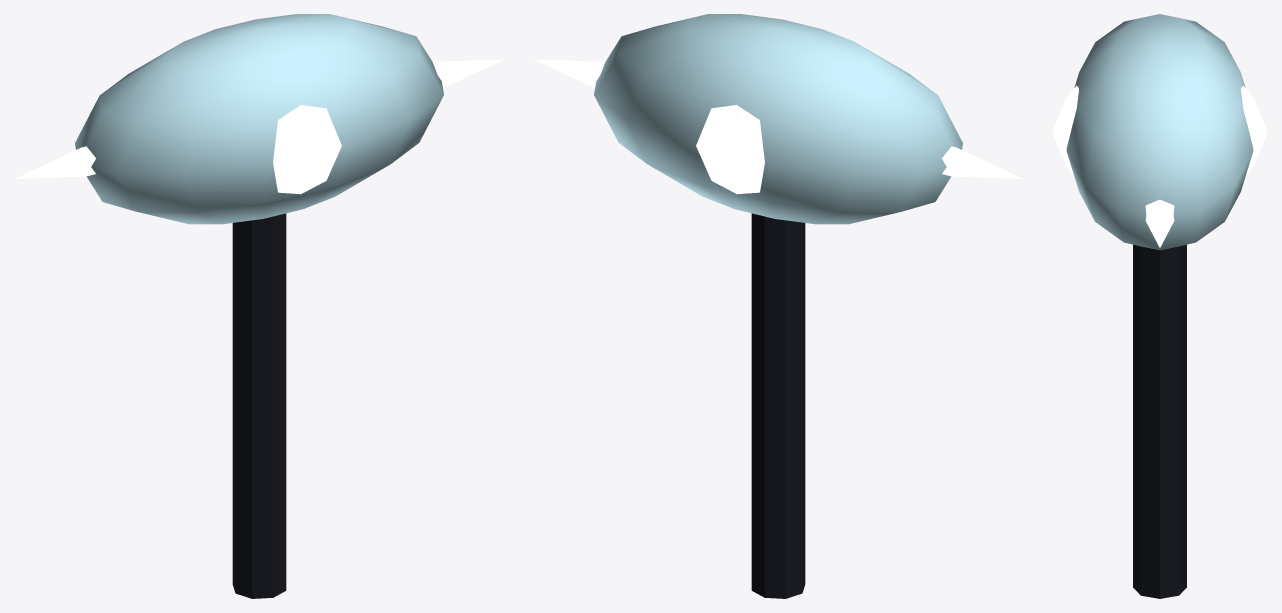
Rendered from mjollnir.glb.
3 renders of one model, left to right at view 1: azimuth 30°, elevation 25°; view 2: azimuth 150°, elevation 25°; view 3: azimuth 270°, elevation 25°, orthographic. The views are drawn at different scales.
Parts seen in each view (by area): view 1: mjollnir-hammer-head, mjollnir-grip, mjollnir-storm-core, mjollnir-spark-r, mjollnir-spark-l; view 2: mjollnir-hammer-head, mjollnir-grip, mjollnir-storm-core, mjollnir-spark-r, mjollnir-spark-l; view 3: mjollnir-hammer-head, mjollnir-grip, mjollnir-storm-core, mjollnir-spark-l.
Part boxes in pixels (left/top/right/bottom): mjollnir-hammer-head: left=75, top=14, right=443, bottom=224; mjollnir-grip: left=232, top=213, right=286, bottom=598; mjollnir-storm-core: left=273, top=105, right=341, bottom=194; mjollnir-spark-r: left=15, top=146, right=95, bottom=178; mjollnir-spark-l: left=432, top=59, right=503, bottom=87; mjollnir-hammer-head: left=594, top=14, right=962, bottom=224; mjollnir-grip: left=751, top=213, right=805, bottom=598; mjollnir-storm-core: left=696, top=105, right=764, bottom=194; mjollnir-spark-r: left=942, top=146, right=1022, bottom=178; mjollnir-spark-l: left=534, top=59, right=605, bottom=87; mjollnir-hammer-head: left=1066, top=14, right=1253, bottom=249; mjollnir-grip: left=1133, top=244, right=1186, bottom=598; mjollnir-storm-core: left=1052, top=85, right=1267, bottom=174; mjollnir-spark-l: left=1145, top=199, right=1174, bottom=247.
Size of the model in its own units: 0.92 by 1 by 0.36.
